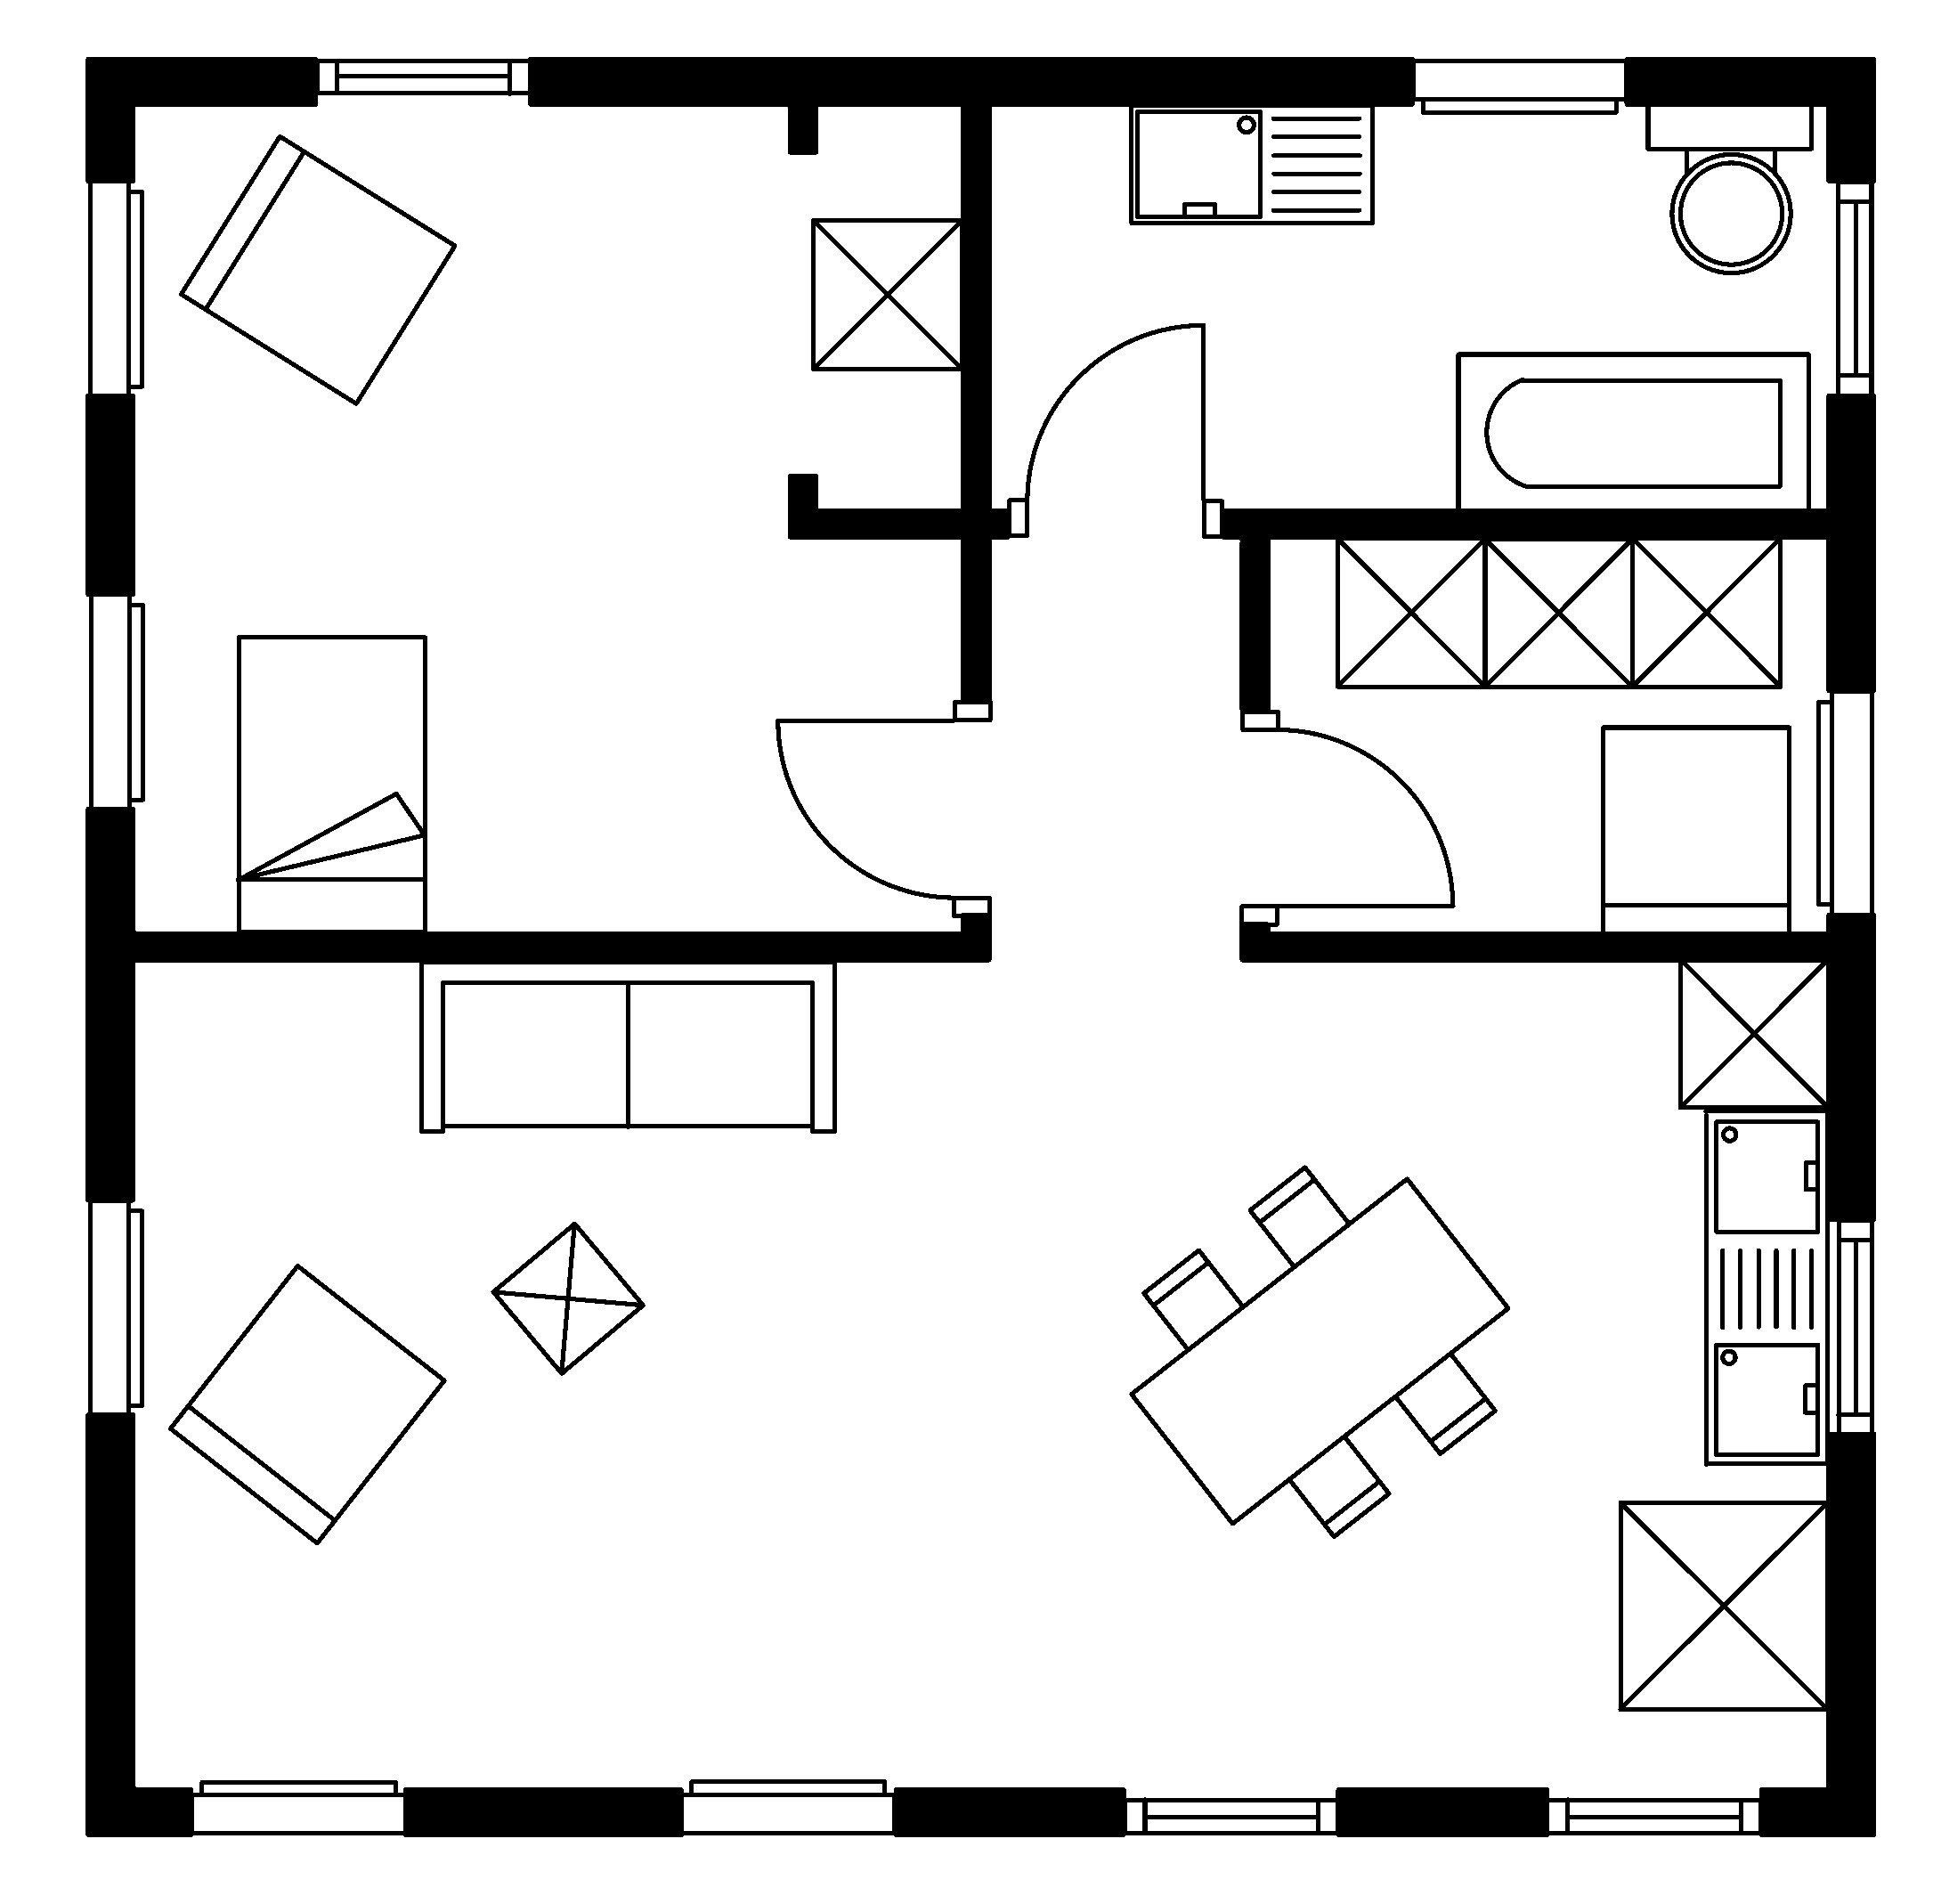bed: (234, 633, 429, 935)
coffee_table: (1616, 1499, 1830, 1712), (809, 216, 966, 371), (488, 1221, 645, 1376), (1480, 534, 1635, 689), (1628, 534, 1783, 689), (1333, 534, 1489, 689), (1675, 955, 1830, 1111)
dining_table: (1128, 1163, 1511, 1540)
large_sink: (1644, 101, 1814, 274)
large_sofa: (418, 959, 837, 1135)
sink: (1128, 101, 1375, 225)
small_sofa: (167, 1262, 446, 1547), (178, 133, 458, 406), (1598, 724, 1792, 936)
tub: (1454, 350, 1811, 513)
twin_sink: (1701, 1107, 1830, 1468)
